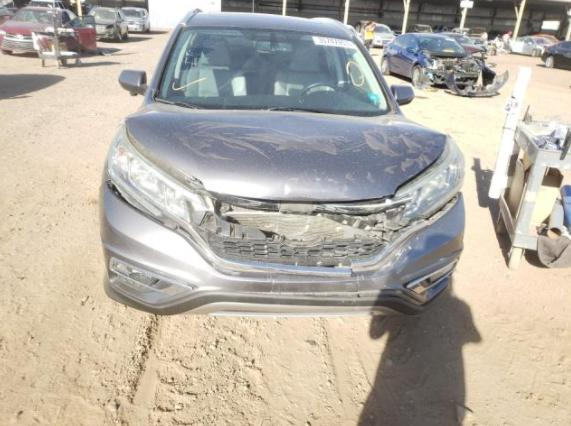Front-bumper: (99, 165, 466, 316)
Grille: (195, 200, 403, 267)
Headlight: (108, 130, 214, 227), (393, 137, 465, 226)
Hood: (121, 101, 446, 202)
Mirror: (119, 70, 148, 97), (389, 85, 414, 105)
Roof: (181, 8, 360, 41)
Windshield: (151, 26, 393, 115)
